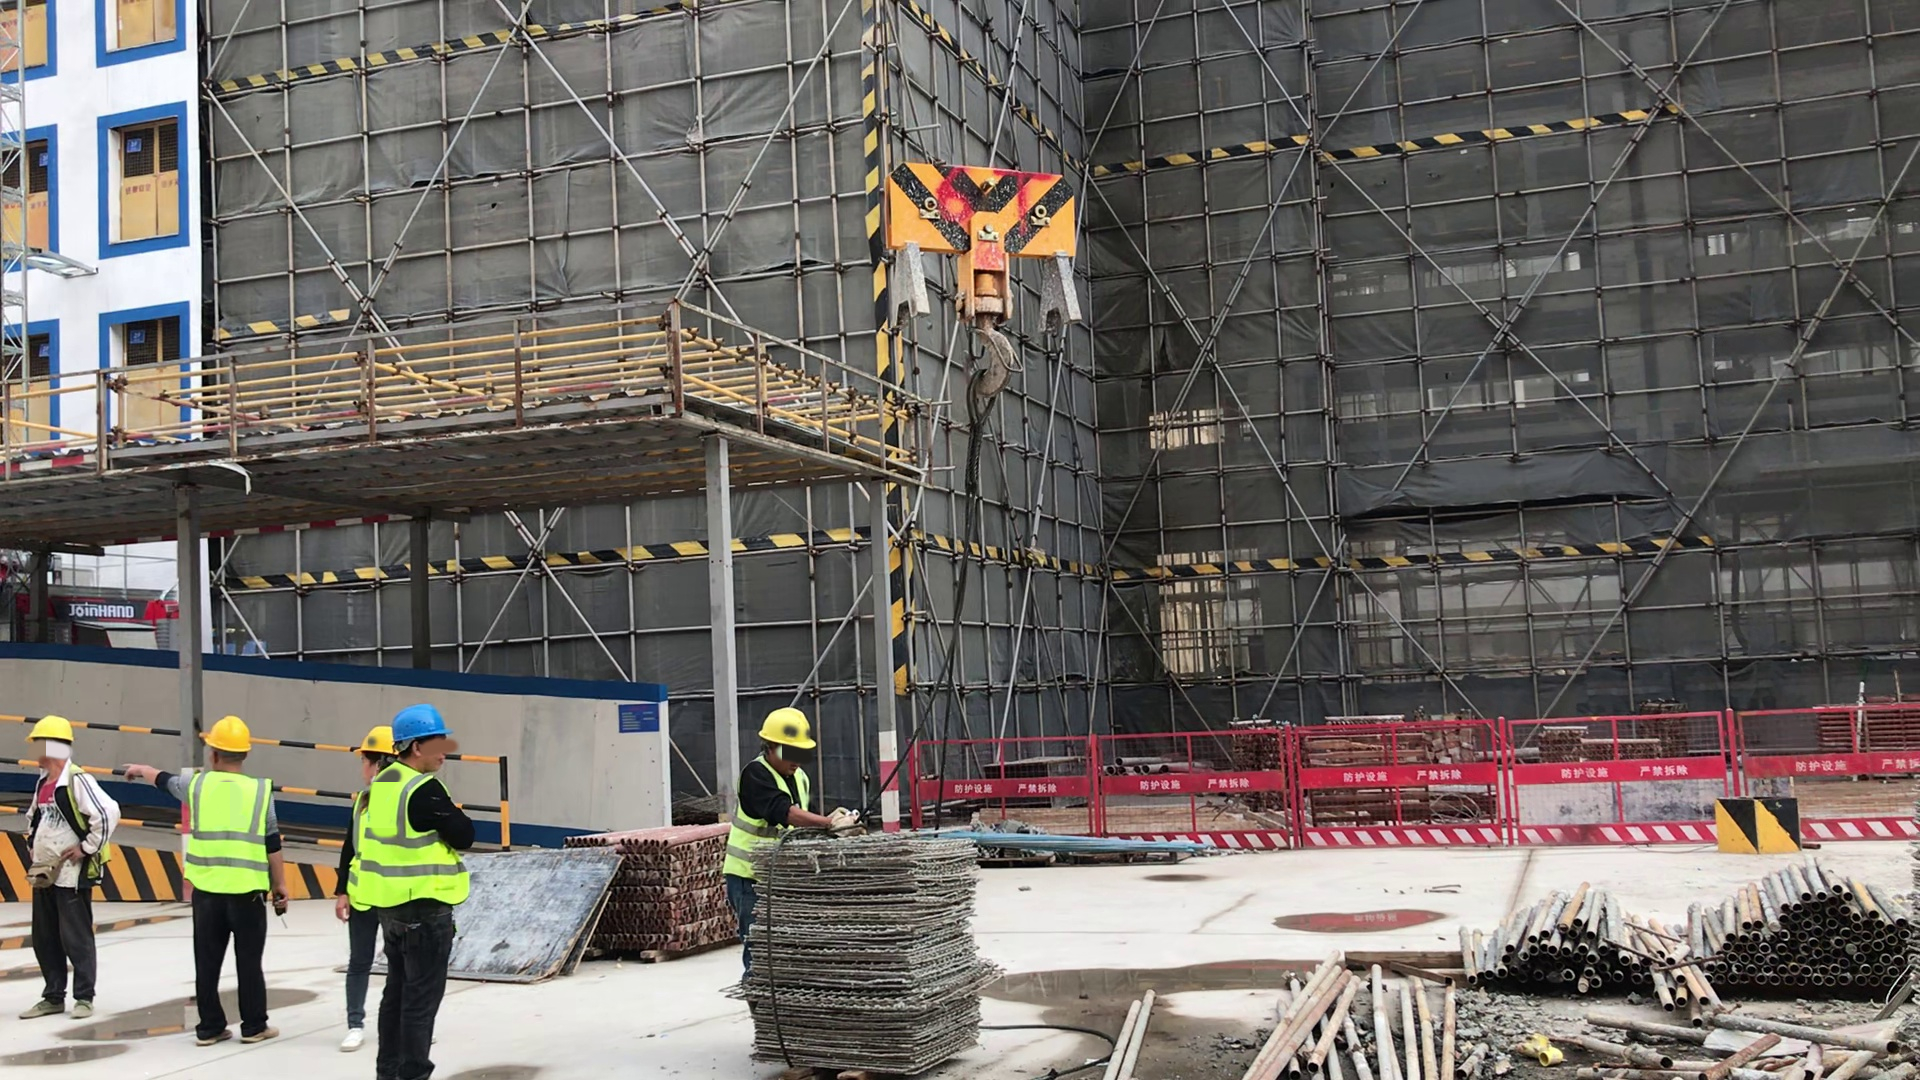fence: (901, 718, 1920, 858)
helmet: (399, 697, 465, 767), (197, 708, 271, 755), (757, 699, 817, 756), (349, 707, 400, 756), (24, 718, 85, 747)
hook: (875, 165, 1087, 338)
person: (173, 693, 296, 1049), (380, 704, 481, 1080), (14, 710, 115, 1024), (725, 705, 815, 909), (345, 710, 383, 1057)
scaffold: (1469, 878, 1900, 988), (565, 823, 736, 957)
vest: (377, 766, 458, 901), (182, 772, 269, 896), (725, 765, 811, 874), (345, 784, 382, 912)
